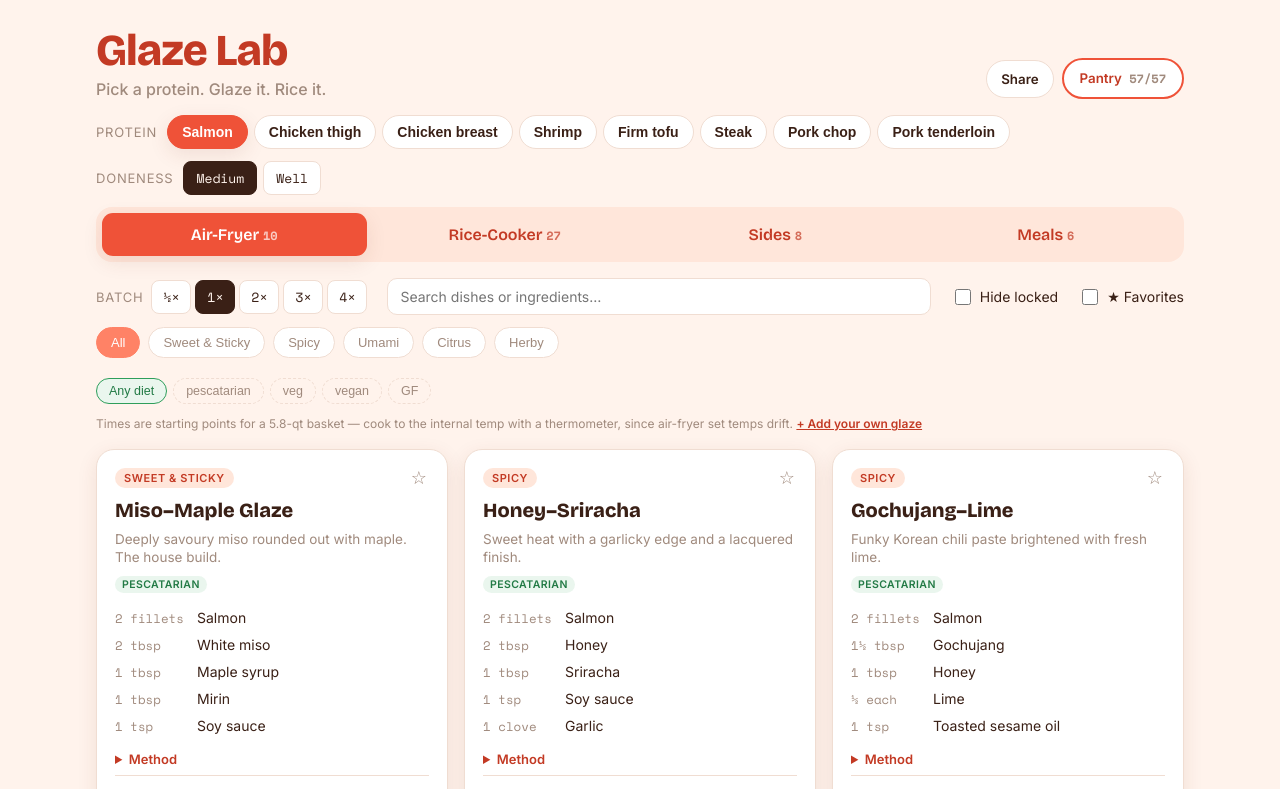
Test: Glaze Lab app › greys a dish and shows a needs ribbon when its pantry item is unchecked
Click the button "Pantry 57/57" at (1123, 78), box [1062,58,1184,99]
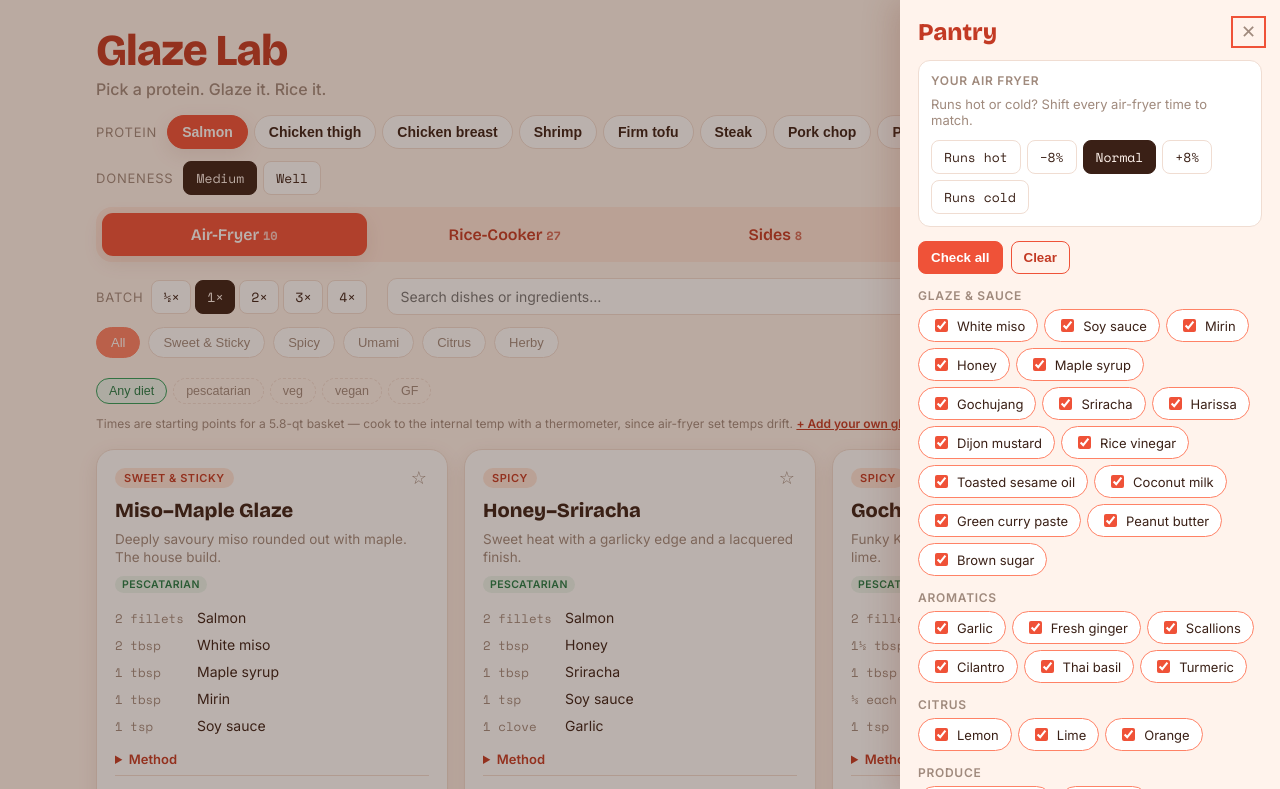
Click the checkbox labelled "White miso" at (942, 326), box [935,319,948,332]
(page scrolled)
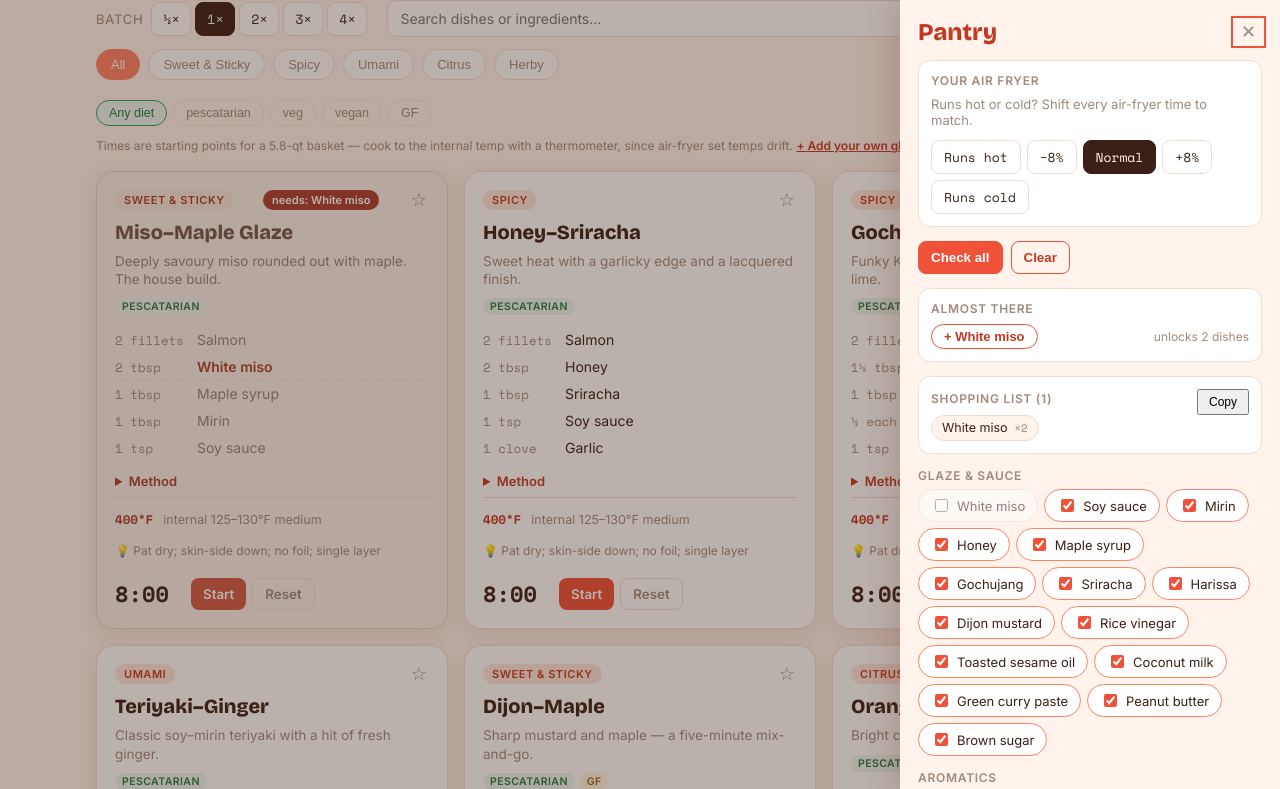
Expected: the text "White miso" is shown, [311,193,370,207]
Result: the text "needs:" is shown at [272,193,311,207]
